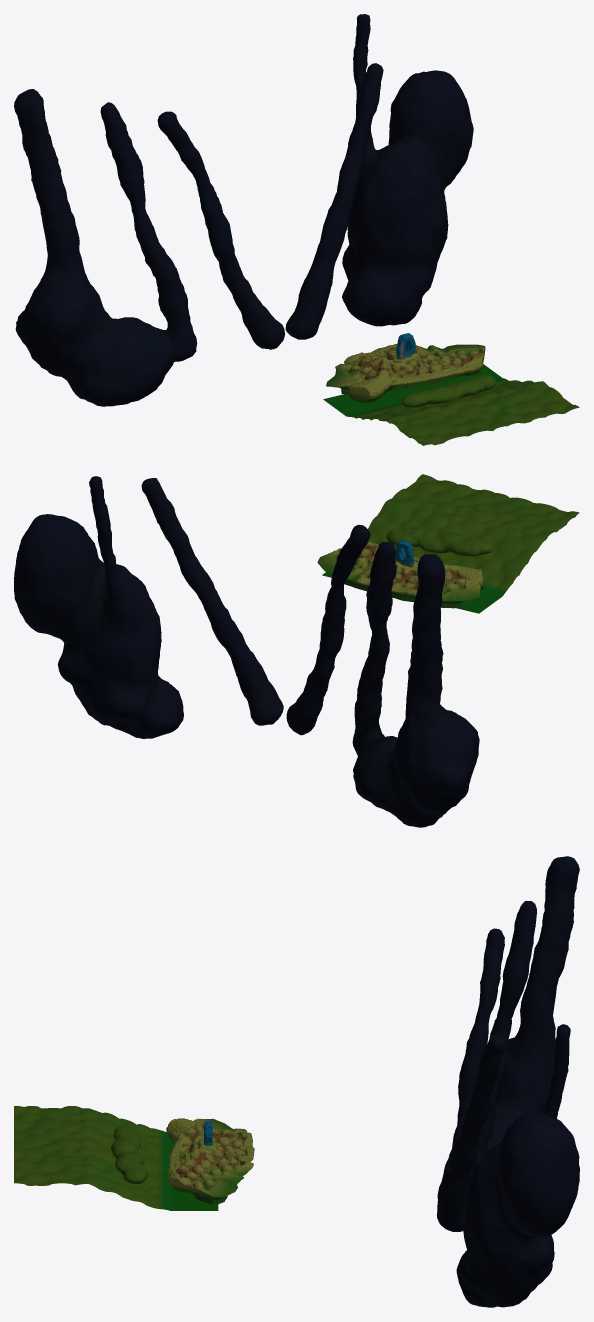
The model's file is finale.glb.
3 views of the same model, one above another, from view 1: azimuth 30°, elevation 25°; view 2: azimuth 150°, elevation 25°; view 3: azimuth 270°, elevation 25° (orthographic).
Parts seen in each view (by area): view 1: far_finale_left, far_finale_right, moss_finale_near__fg, moss_finale_hills; view 2: far_finale_right, far_finale_left, moss_finale_near__fg, moss_finale_hills; view 3: far_finale_right, far_finale_left, moss_finale_near__fg, moss_finale_hills.
Boxes of the visible parts, <box> form: far_finale_left: <box>14,89,284,406</box>; far_finale_right: <box>285,14,473,339</box>; moss_finale_near__fg: <box>323,364,579,445</box>; moss_finale_hills: <box>326,344,485,402</box>; far_finale_right: <box>14,476,283,738</box>; far_finale_left: <box>286,524,479,827</box>; moss_finale_near__fg: <box>322,474,579,613</box>; moss_finale_hills: <box>317,541,483,608</box>; far_finale_right: <box>437,1024,579,1307</box>; far_finale_left: <box>437,856,579,1198</box>; moss_finale_near__fg: <box>14,1106,218,1210</box>; moss_finale_hills: <box>166,1118,254,1204</box>.
Bounding box in the file's own units: 15.46 × 9.77 × 16.63.
